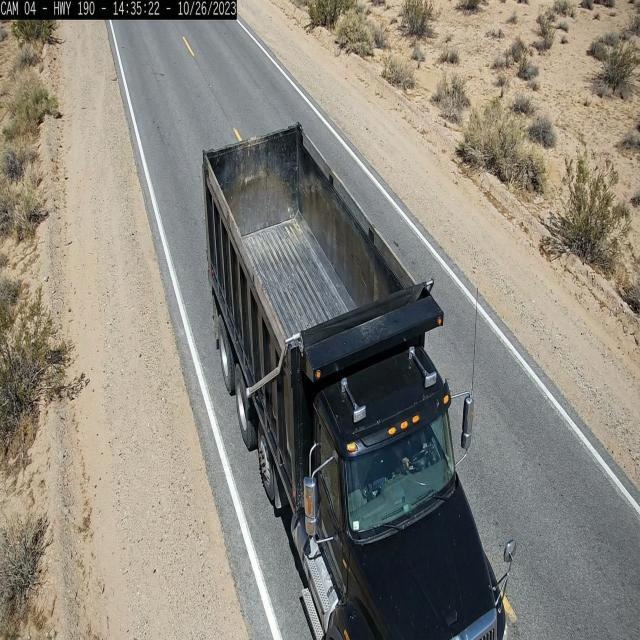Box: (188, 118, 448, 378)
Truck: (175, 109, 520, 640)
